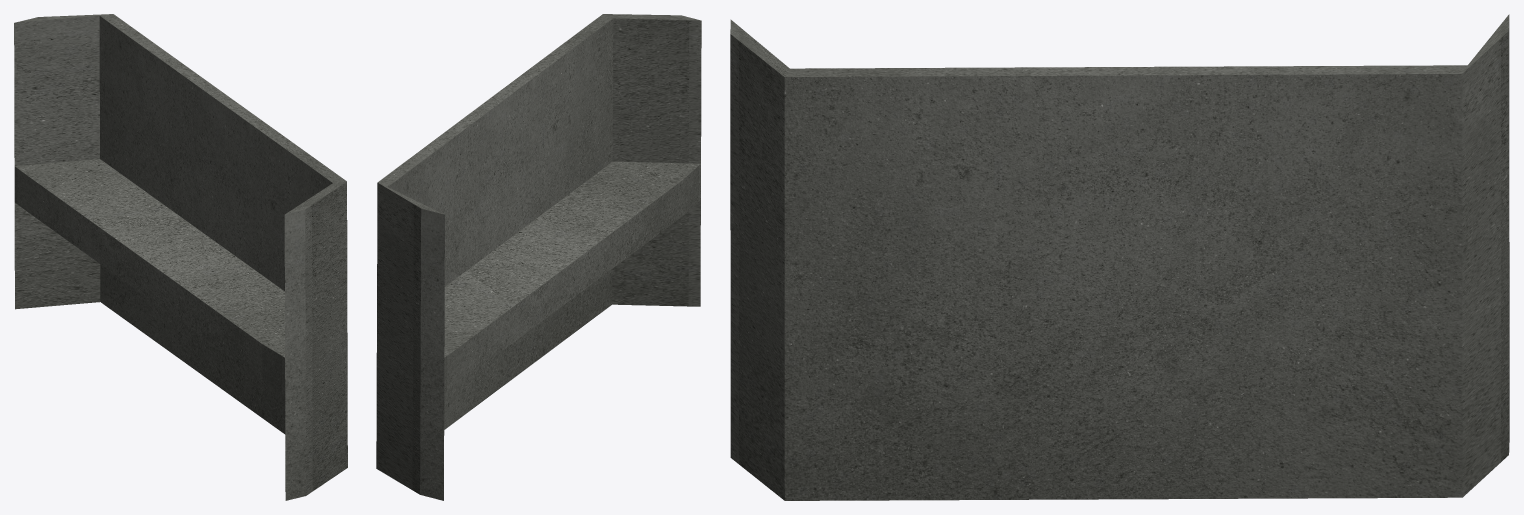
Rendered from ParedConApoyador.fbx.
3 renders of one model, left to right at view 1: azimuth 30°, elevation 25°; view 2: azimuth 150°, elevation 25°; view 3: azimuth 270°, elevation 25°, orthographic. The views are drawn at different scales.
Visible parts, largest first — view 1: Pared con Apoyador; view 2: Pared con Apoyador; view 3: Pared con Apoyador.
Boxes of the visible parts, <box> form: Pared con Apoyador: <box>14,14,347,500</box>; Pared con Apoyador: <box>376,14,701,500</box>; Pared con Apoyador: <box>730,14,1509,500</box>.
Bounding box in the file's own units: 96.71 × 300 × 500.
1 material, 1 textured.
